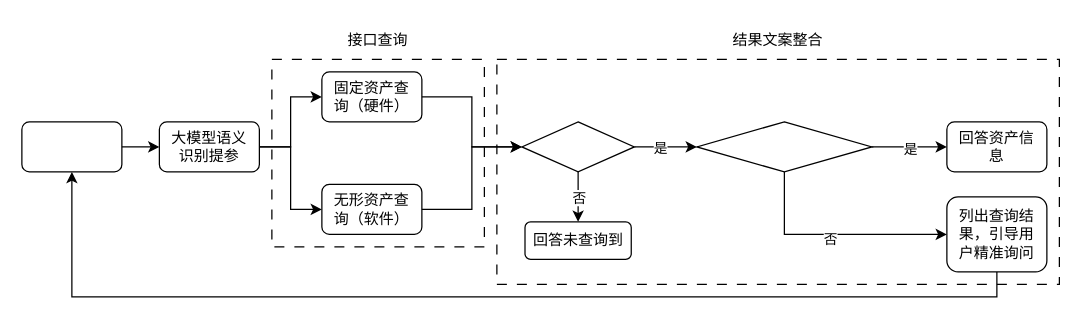
Image size: 1081x329. Some labels were removed from this diagram. Here are the shapes that lost their labels. From the top down, the centre of each, then its label:
At point (71, 146): "用户输入".
At point (577, 146): "是否查到".
At point (784, 146): "查询结果是否单一".
